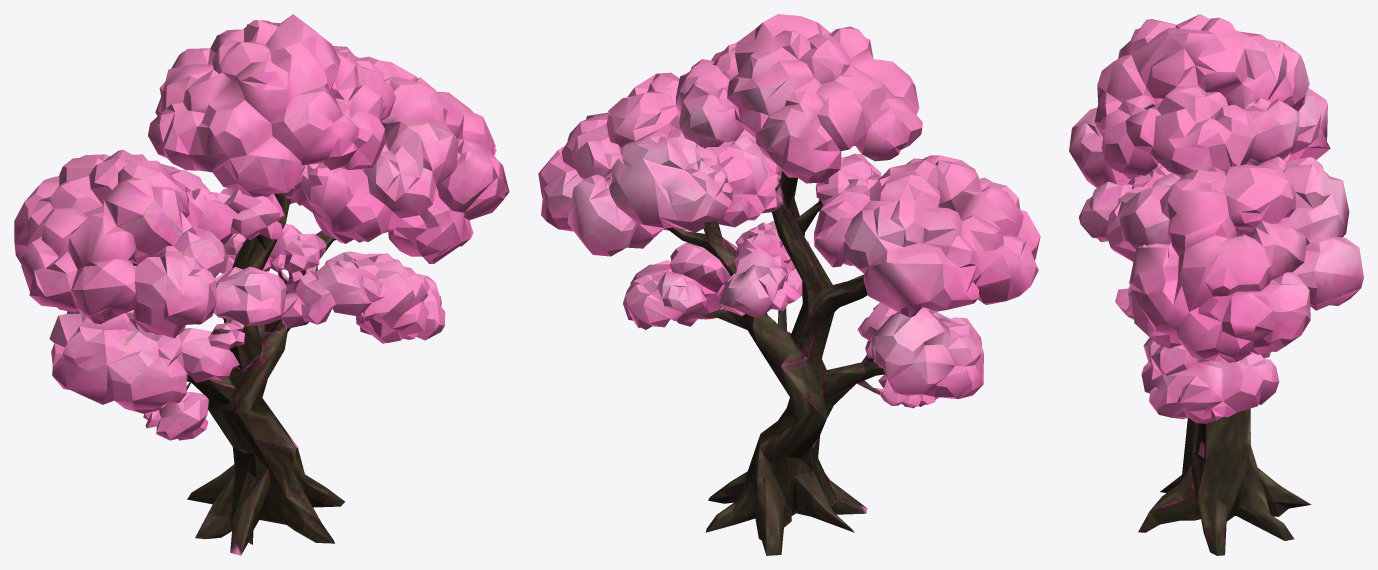
Rendered from meadow_sakura.glb.
3 views of the same model, side by side, from view 1: azimuth 30°, elevation 25°; view 2: azimuth 150°, elevation 25°; view 3: azimuth 270°, elevation 25° (orthographic). The views are drawn at different scales.
Bounding box in the file's own units: 1.89 × 1.88 × 1.01.
Materials: 1 (1 with a texture image).
